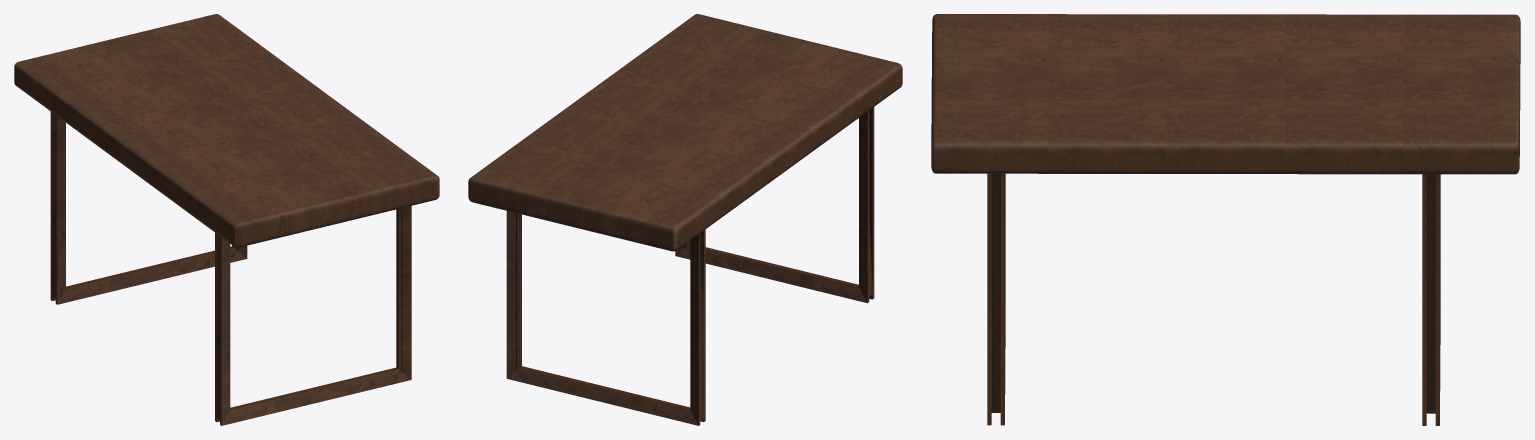
3 renders of one model, left to right at view 1: azimuth 30°, elevation 25°; view 2: azimuth 150°, elevation 25°; view 3: azimuth 270°, elevation 25°, orthographic. The views are drawn at different scales.
Parts seen in each view (by area): view 1: solid_001_wire; view 2: solid_001_wire; view 3: solid_001_wire.
Boxes of the visible parts, box(x1,y1,x2,y2) form: solid_001_wire: box(14, 14, 439, 425); solid_001_wire: box(468, 14, 902, 425); solid_001_wire: box(931, 14, 1520, 425).
Size of the model in its own units: 0.7142 by 0.7185 by 1.34.
Materials: 1 (1 with a texture image).
